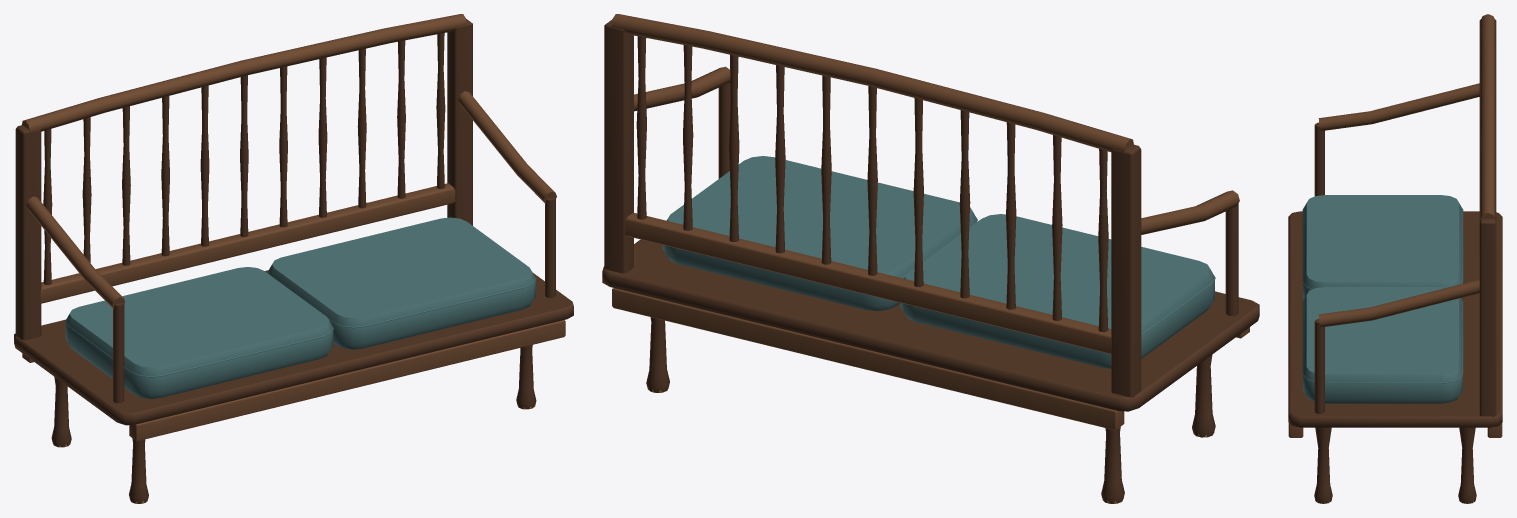
Rendered from rpg-mansion-spindle-hall-settee-01.glb.
3 renders of one model, left to right at view 1: azimuth 30°, elevation 25°; view 2: azimuth 150°, elevation 25°; view 3: azimuth 270°, elevation 25°, orthographic. The views are drawn at different scales.
Visible parts, largest first — view 1: rpg-mansion-spindle-hall-settee-01; view 2: rpg-mansion-spindle-hall-settee-01; view 3: rpg-mansion-spindle-hall-settee-01.
Part boxes in pixels (x1=…): rpg-mansion-spindle-hall-settee-01: x1=14, y1=14, x2=573, y2=503; rpg-mansion-spindle-hall-settee-01: x1=602, y1=14, x2=1259, y2=503; rpg-mansion-spindle-hall-settee-01: x1=1288, y1=14, x2=1502, y2=503.
Size of the model in its own units: 1.6 by 1.1 by 0.7.
